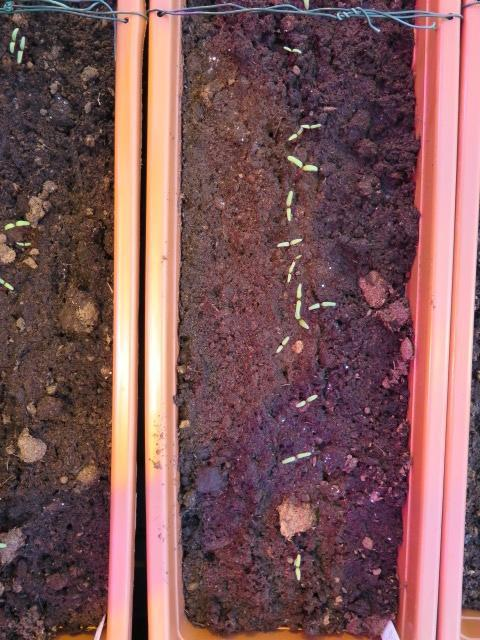crop: (281, 150, 321, 174), (289, 391, 323, 413), (277, 446, 314, 466), (272, 232, 305, 250), (303, 295, 339, 311), (271, 331, 291, 358), (282, 184, 294, 224), (290, 544, 301, 587), (278, 41, 304, 58)
